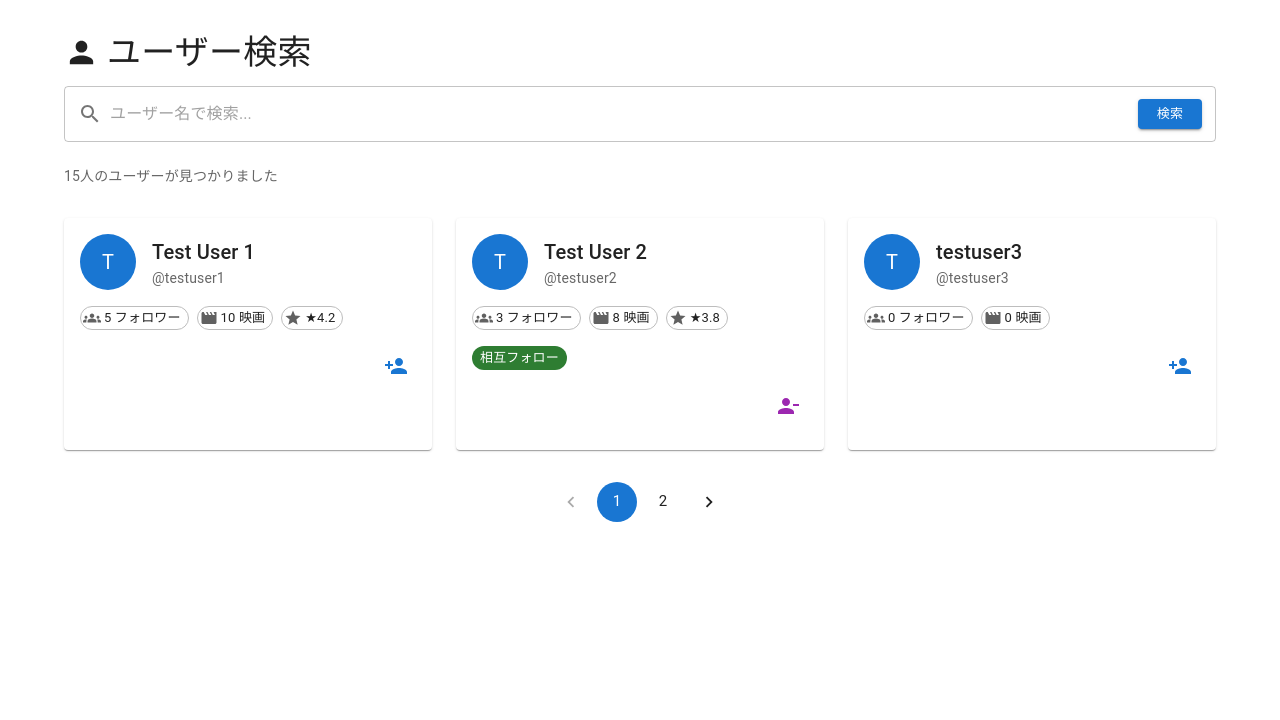
Scenario: UserSearch › handles unfollow API error
The width and height of the screenshot is (1280, 720).
Check: the heading "Test User 2" is shown, box [544,240,647,264]
Click the button named "フォロー解除" at (788, 406), box [768,386,808,426]
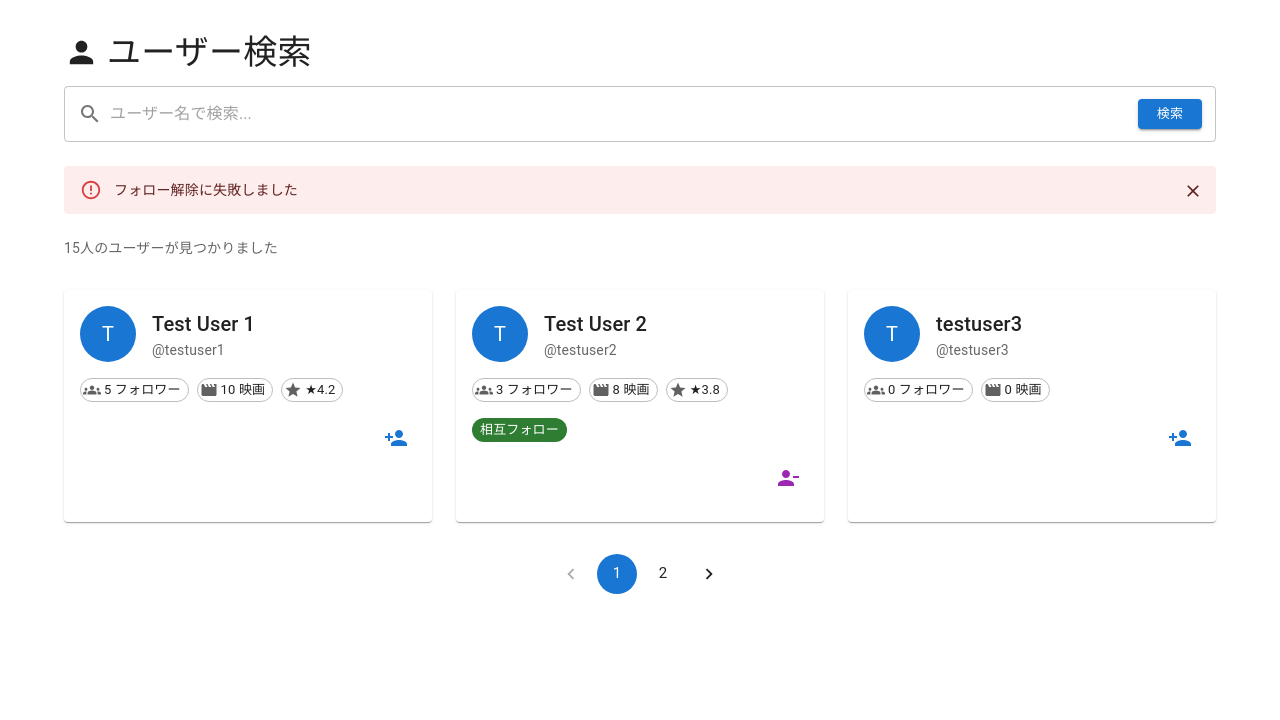
Check: the text "フォロー解除に失敗しました" is shown, box [114,182,298,198]
